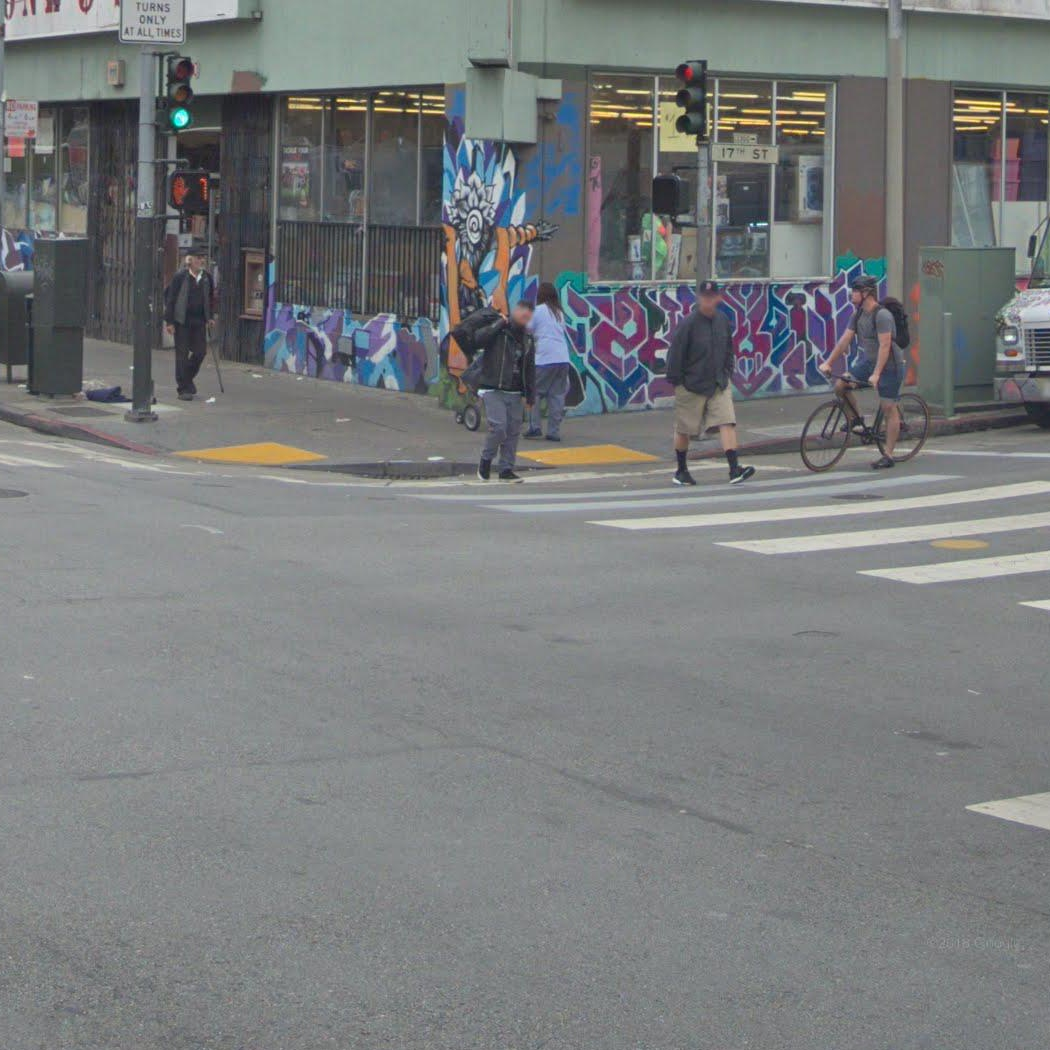No Parking: (2, 99, 39, 138)
